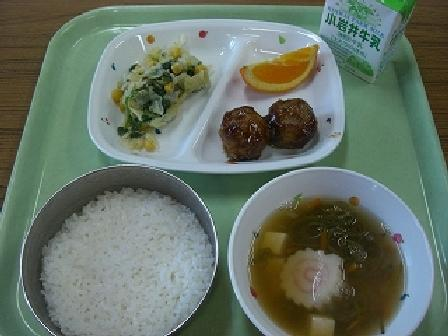Citrus: (237, 37, 325, 94)
Milk: (319, 0, 420, 72)
Rice: (29, 166, 225, 331)
Salad: (104, 42, 202, 160)
Soups: (233, 172, 438, 335)
cutlet: (215, 90, 321, 161)
